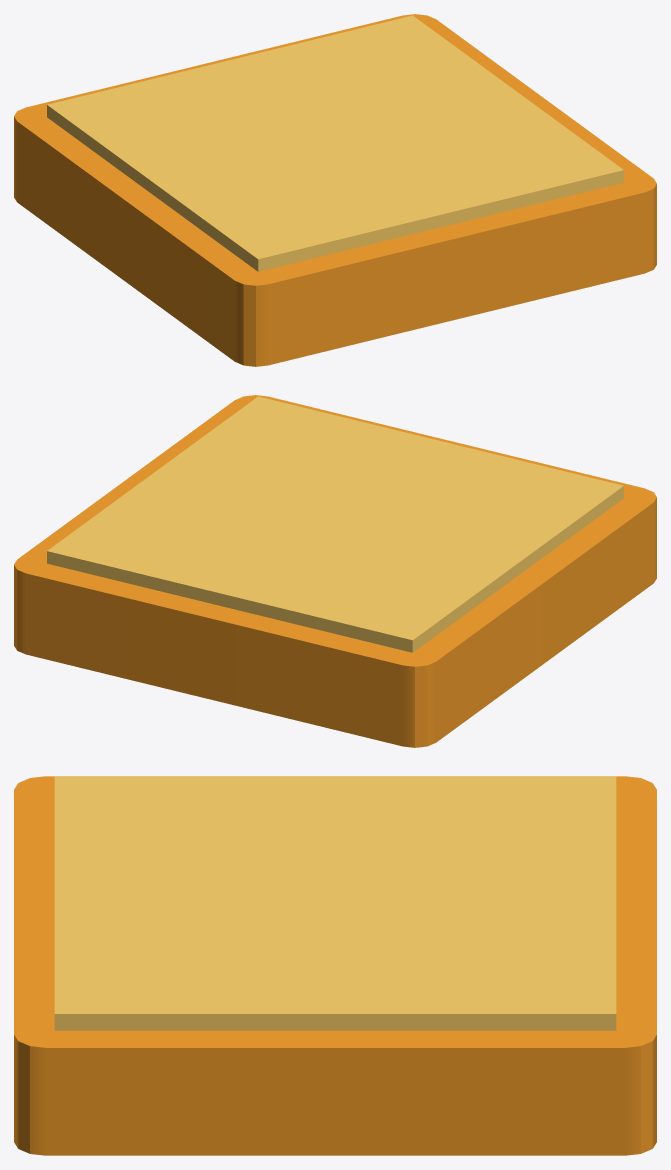
The model's file is Sandau.fbx.
3 renders of one model, top to bottom at view 1: azimuth 30°, elevation 25°; view 2: azimuth 150°, elevation 25°; view 3: azimuth 270°, elevation 25°, orthographic. The views are drawn at different scales.
Parts seen in each view (by area): view 1: Sandau; view 2: Sandau; view 3: Sandau.
Part boxes in pixels (<box>): Sandau: <box>14,14,656,366</box>; Sandau: <box>14,395,656,747</box>; Sandau: <box>14,776,656,1155</box>.
Size of the model in its own units: 1176 by 251 by 1176.
